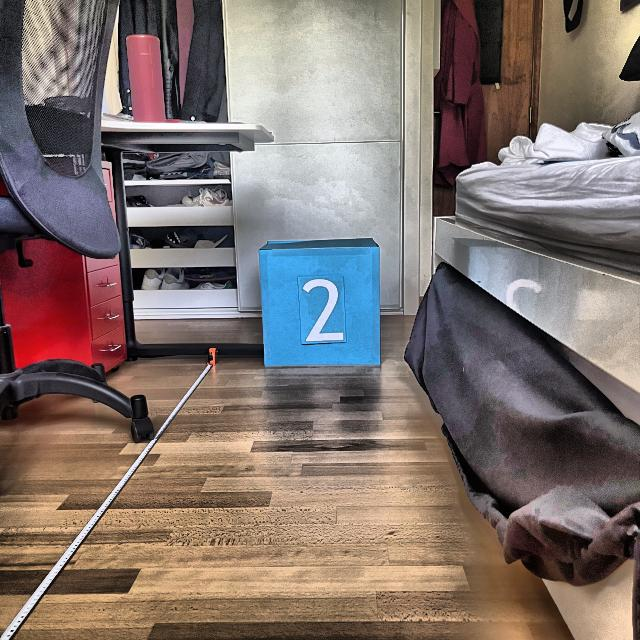blue box: (255, 238, 384, 366)
two: (300, 277, 346, 342)
